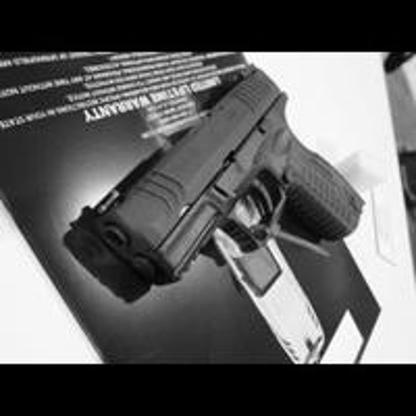weapon: (85, 61, 367, 297)
